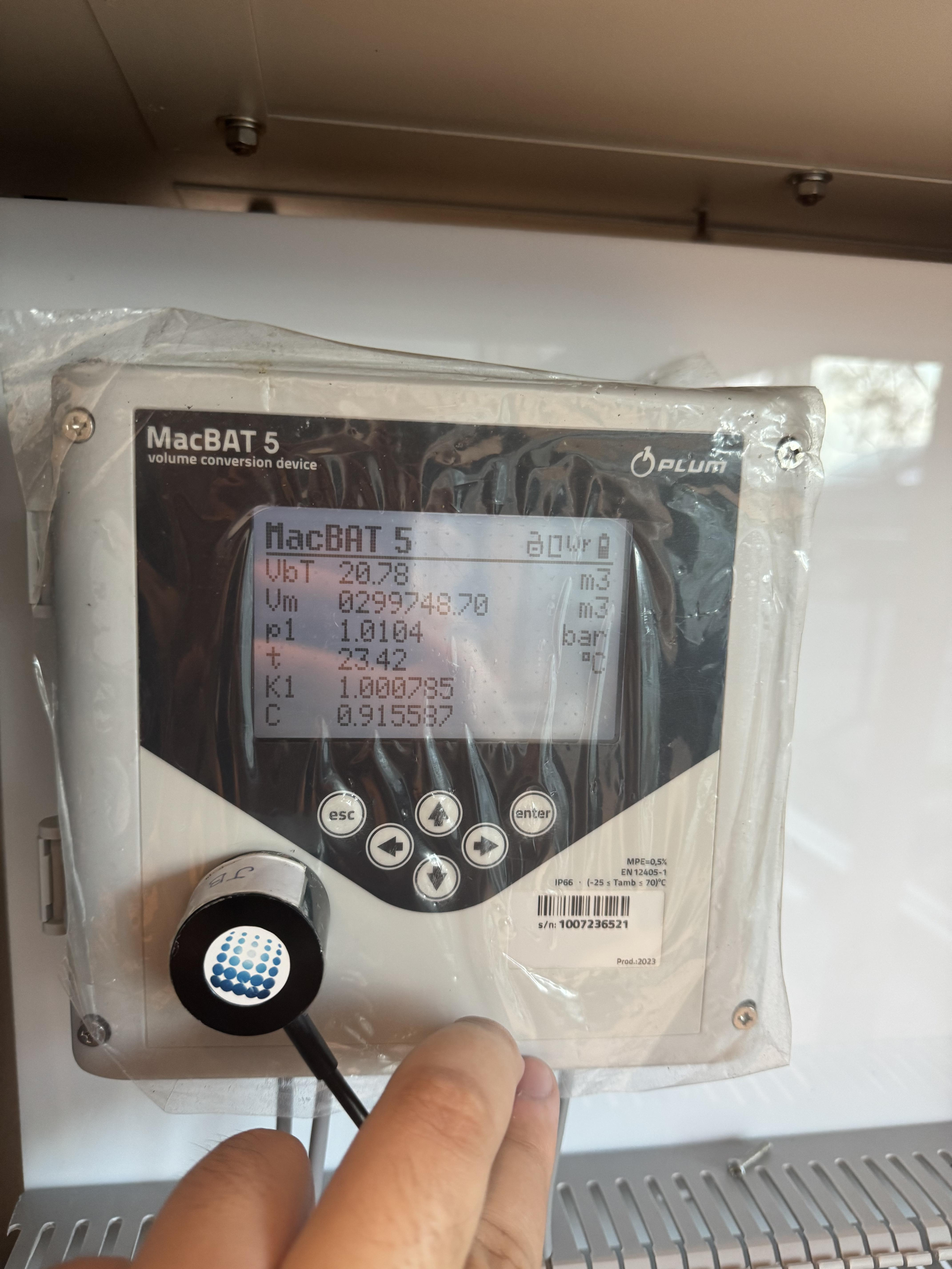digital_screen: (253, 507, 630, 742)
